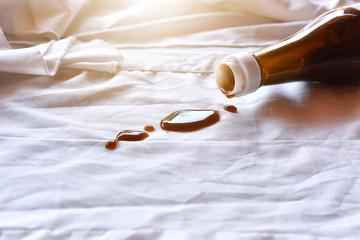gun: (159, 108, 218, 131), (103, 123, 155, 146), (221, 101, 238, 113)
